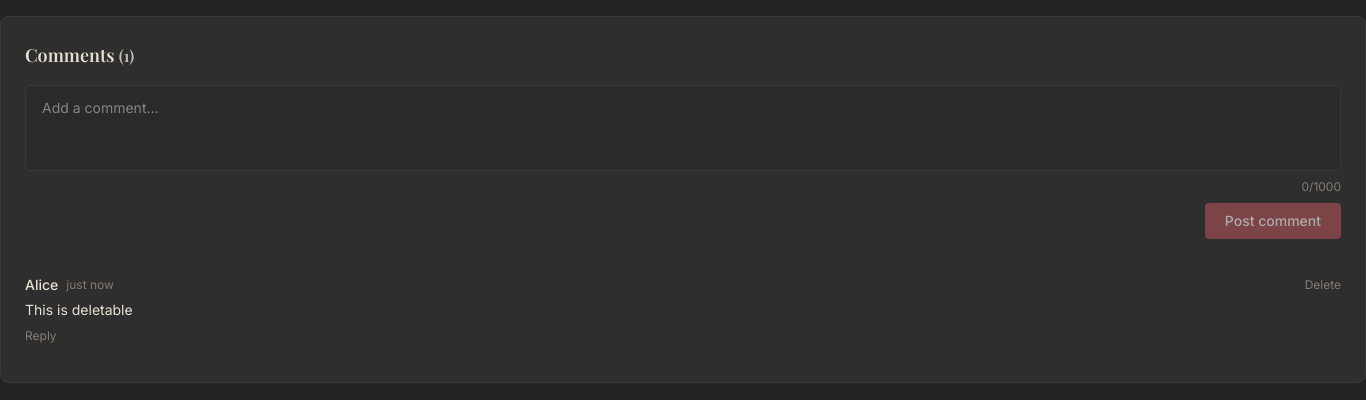
it: CommentSection › deletes a comment and removes it from the list
This screenshot has width=1366, height=400.
Check: the text "This is deletable" is shown, box [25,301,133,318]
Click the button "Delete" at (1323, 285), box [1305,277,1341,293]
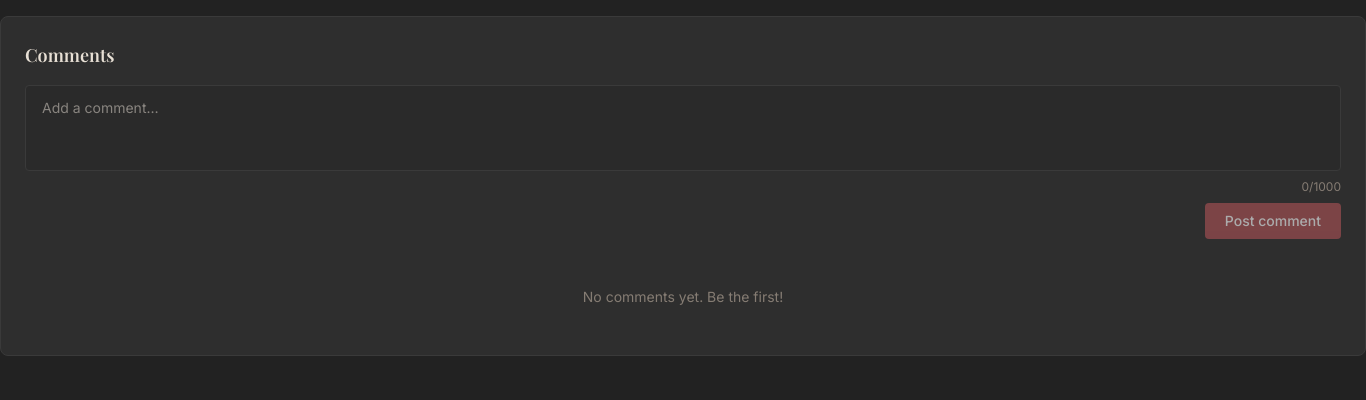
Check: the text "This is deletable" is gone
